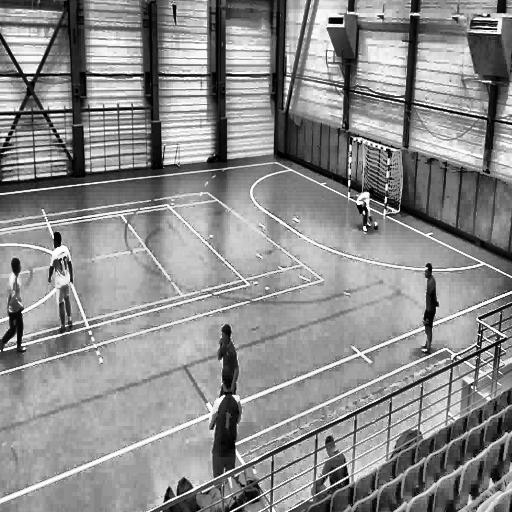ball: (372, 219, 379, 232)
player: (209, 366, 242, 483), (46, 230, 75, 335), (0, 257, 26, 355), (420, 261, 441, 356), (217, 322, 239, 399), (355, 188, 374, 236)
